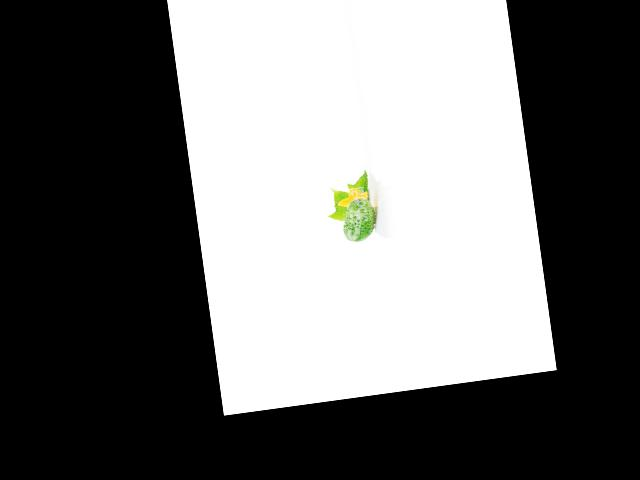cucumber: (339, 197, 378, 243)
